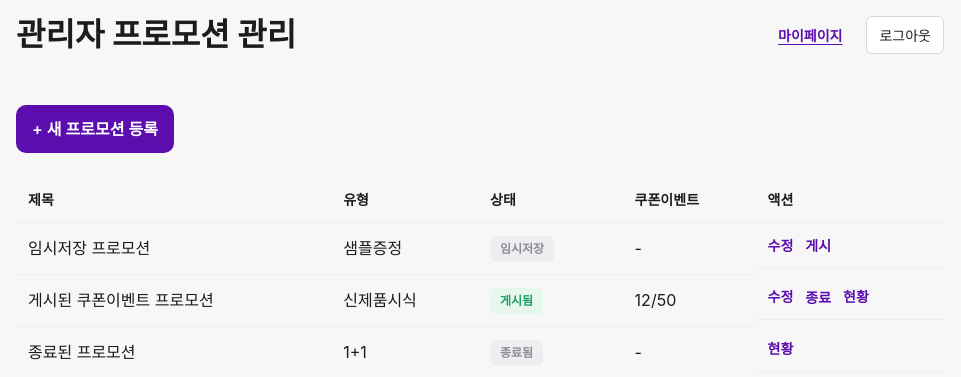
clicking "게시" on a draft promotion PATCHes status=published and the row updates after refetch
Expected: the text "임시저장 프로모션" is shown, [16, 222, 331, 274]
Click the button "게시" at [818, 245], box [805, 235, 831, 256]
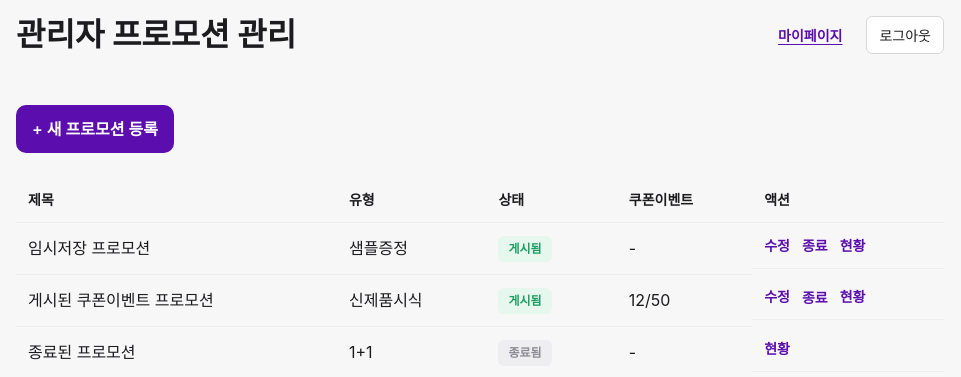
Now the text "게시됨" in the row of "임시저장 프로모션" is shown, box [508, 241, 542, 256]
